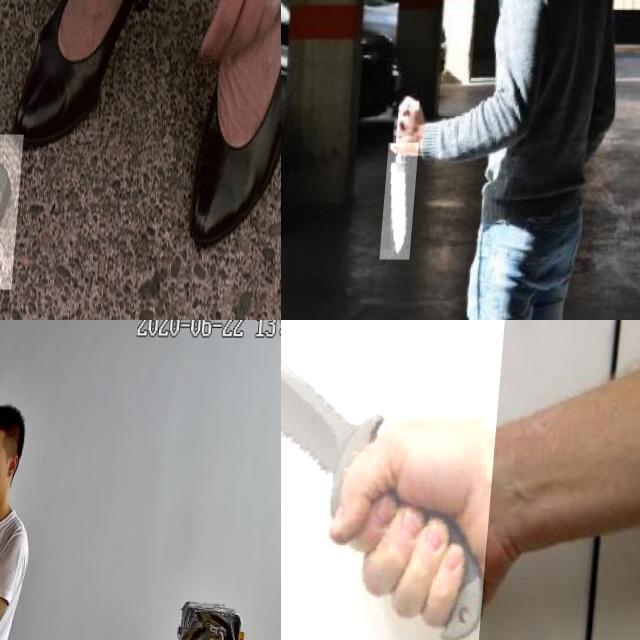-: (281, 320, 512, 640), (386, 142, 423, 259)
gun-knife-thesis - v11 Yolov5 augmented: (0, 132, 100, 288)
